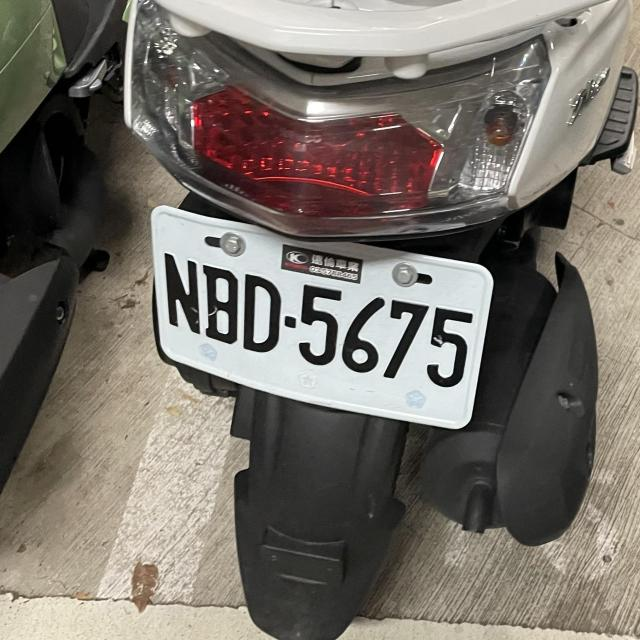W: (152, 202, 496, 431)
